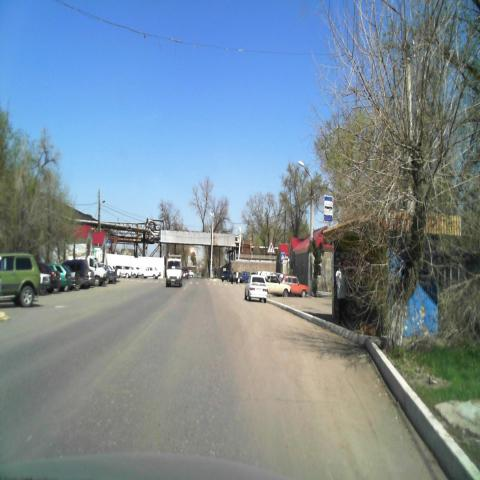1_20: (267, 241, 275, 255)
